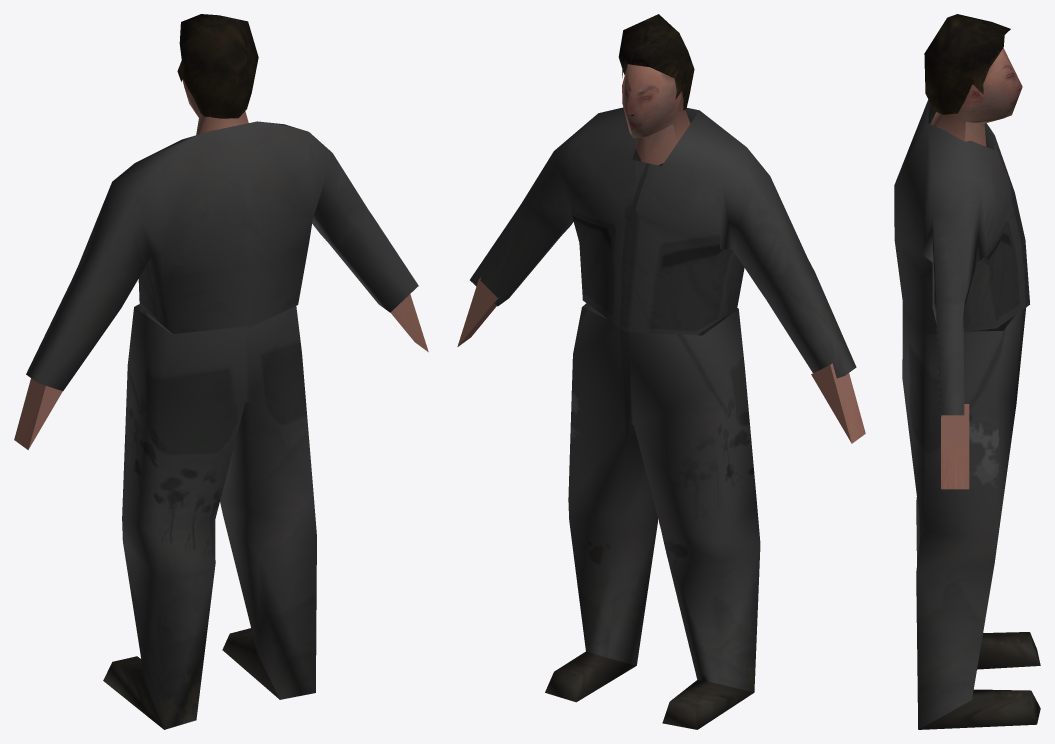
File: s_m_m_autoshop_02.glb
The picture shows the model from 3 angles, left to right: view 1: azimuth 30°, elevation 25°; view 2: azimuth 150°, elevation 25°; view 3: azimuth 270°, elevation 25°; orthographic projection.
Parts seen in each view (by area): view 1: SKEL_ROOT; view 2: SKEL_ROOT; view 3: SKEL_ROOT.
Part boxes in pixels (bbox=[...]): SKEL_ROOT: bbox=[14, 14, 428, 729]; SKEL_ROOT: bbox=[457, 14, 865, 729]; SKEL_ROOT: bbox=[894, 14, 1040, 729].
Size of the model in its own units: 1.15 by 1.86 by 0.3643.
Materials: 4 (4 with a texture image).
